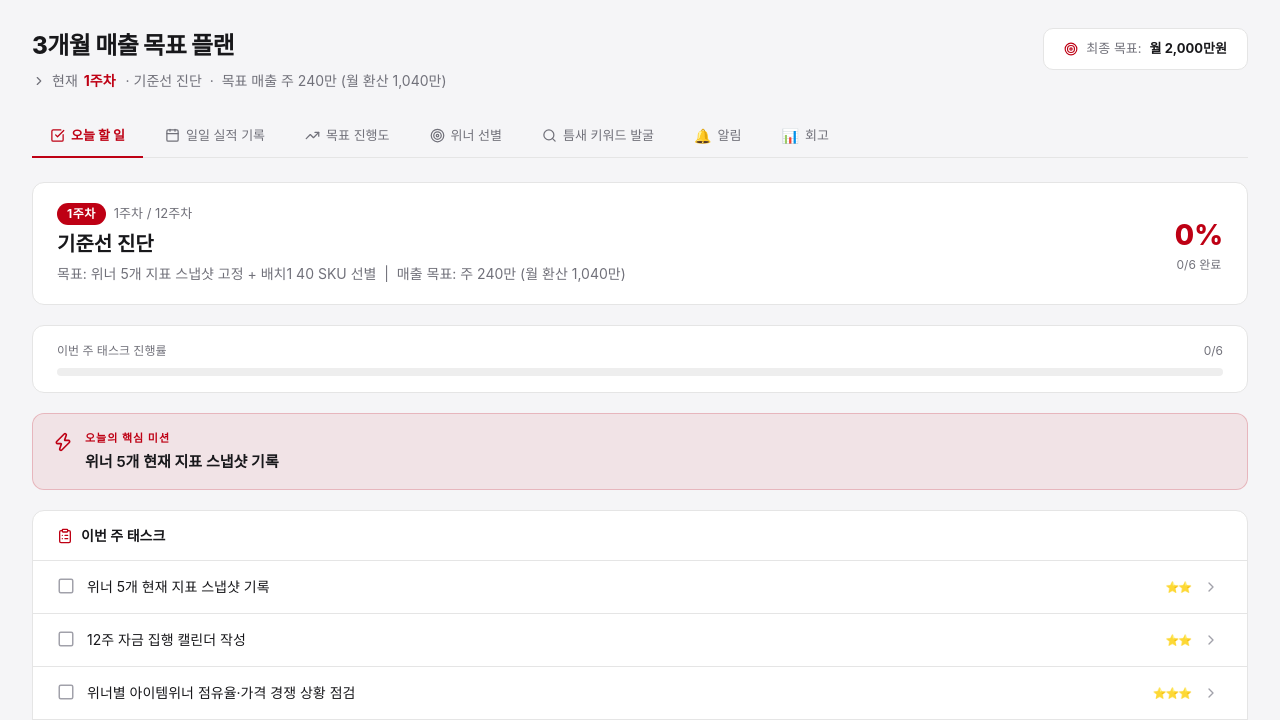
PlanClient — 12주 차트 › 주차별 누적 매출 차트가 12주 전체 목표를 렌더한다 (마지막 주 누적 목표 4,225만 포함)
Click the button "목표 진행도".
click(347, 136)  # box [287,115,408,158]
(page scrolled)
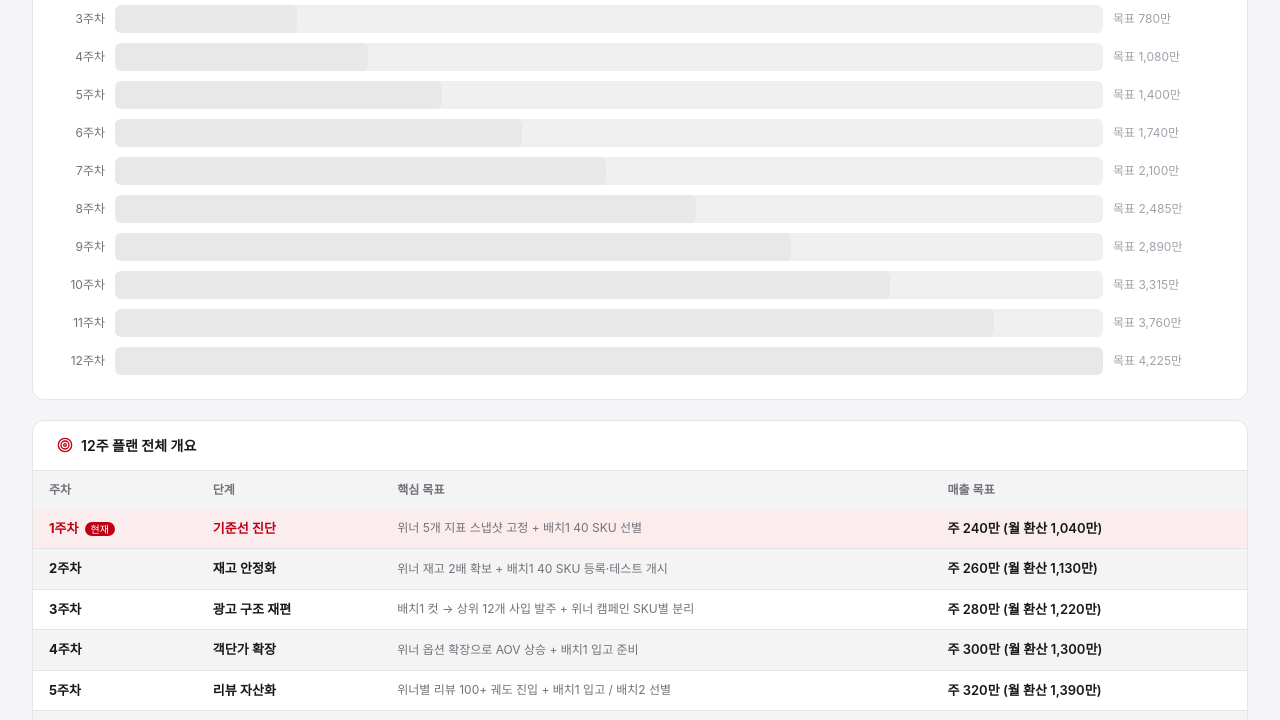
Expected: the text "목표 4,225만" is shown, [1113,352,1182,368]
